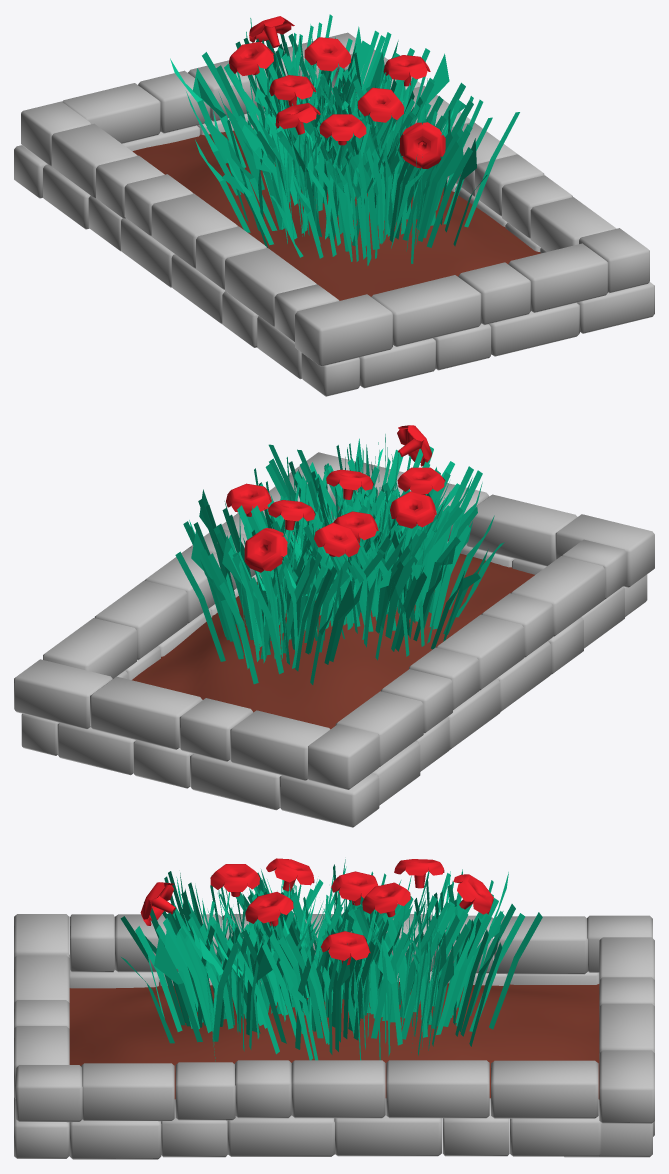
File: flowers.fbx
The picture shows the model from 3 angles, top to bottom: view 1: azimuth 30°, elevation 25°; view 2: azimuth 150°, elevation 25°; view 3: azimuth 270°, elevation 25°; orthographic projection. The views are drawn at different scales.
Visible parts, largest first — view 1: flowers; view 2: flowers; view 3: flowers.
Boxes of the visible parts, left/top/right/bottom form: flowers: left=14, top=14, right=654, bottom=396; flowers: left=14, top=425, right=654, bottom=827; flowers: left=14, top=858, right=654, bottom=1159.
Size of the model in its own units: 95.02 by 50.08 by 146.
1 material, 1 textured.
